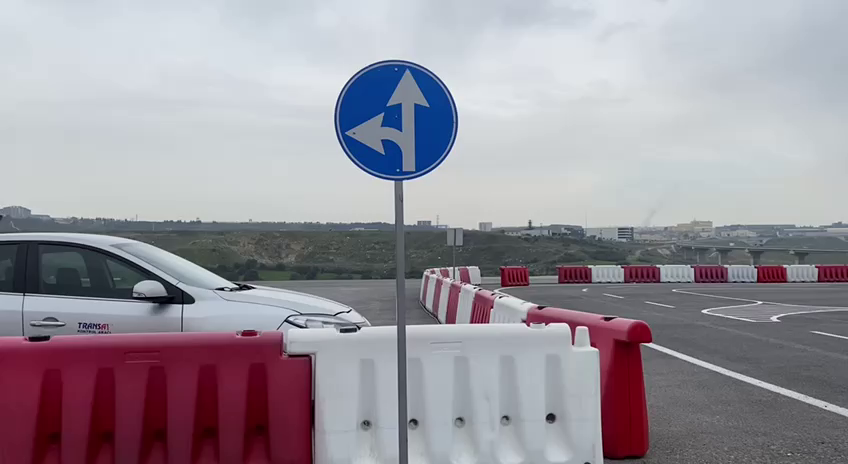forwardAndLeft: (331, 55, 460, 182)
